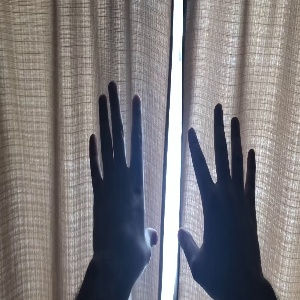hand: (179, 104, 264, 287), (90, 82, 158, 263)
